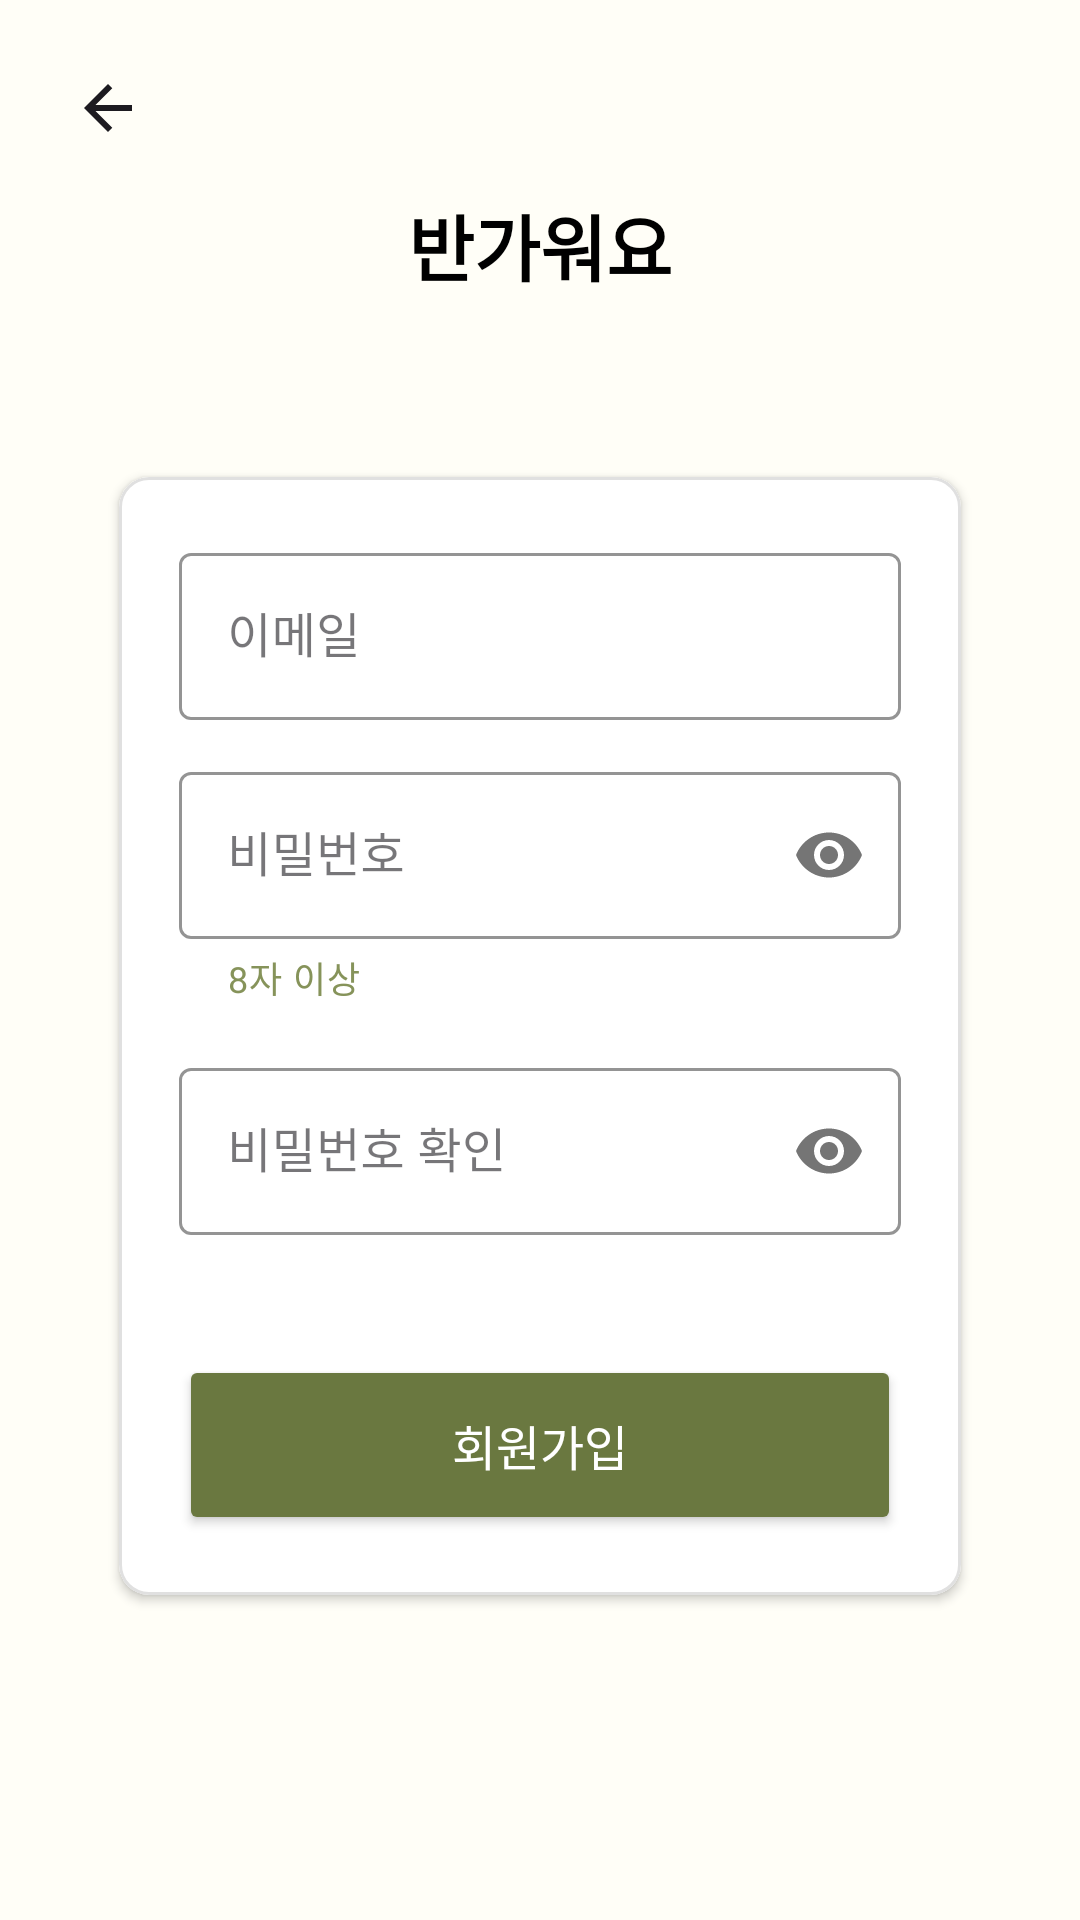

Icon click points for this 1080 x 1920 phone screenshot, format [x,y]:
뒤로가기 버튼: [108,108]
